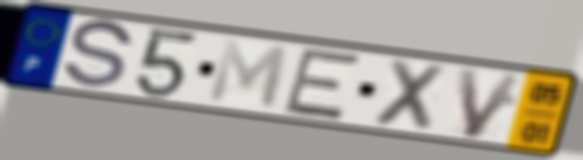5: (132, 24, 201, 100)
E: (279, 45, 366, 123)
M: (204, 37, 292, 113)
S: (59, 18, 137, 93)
V: (455, 65, 527, 141)
X: (367, 55, 452, 136)
